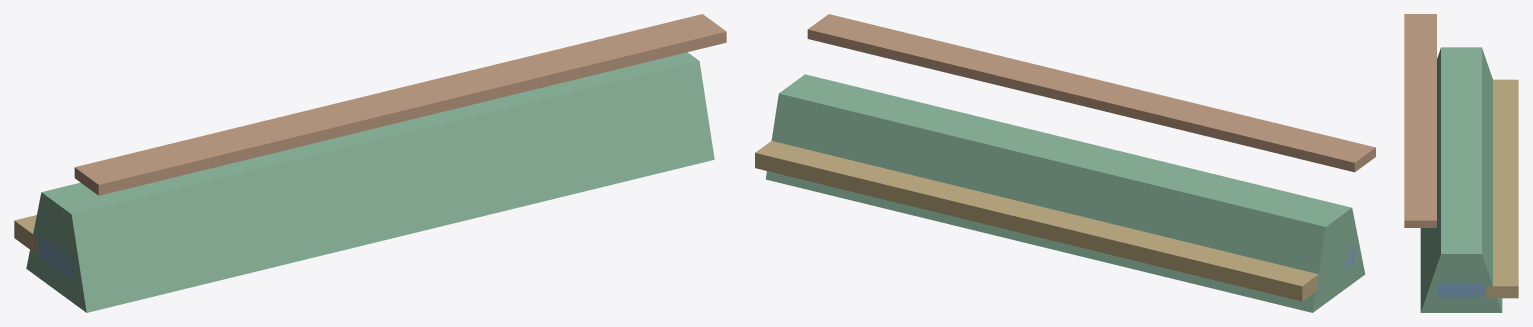
3 views of the same model, side by side, from view 1: azimuth 30°, elevation 25°; view 2: azimuth 150°, elevation 25°; view 3: azimuth 270°, elevation 25° (orthographic). The views are drawn at different scales.
Visible parts, largest first — view 1: 3_護岸ブロック, 4_天端工, 1_基礎工, 2_根固工; view 2: 3_護岸ブロック, 2_根固工, 4_天端工; view 3: 3_護岸ブロック, 4_天端工, 2_根固工, 1_基礎工.
Boxes of the visible parts, <box> form: 3_護岸ブロック: <box>26,52,714,312</box>; 4_天端工: <box>74,14,726,195</box>; 1_基礎工: <box>38,234,74,281</box>; 2_根固工: <box>14,215,38,255</box>; 3_護岸ブロック: <box>765,74,1365,312</box>; 2_根固工: <box>755,141,1320,301</box>; 4_天端工: <box>807,14,1375,172</box>; 3_護岸ブロック: <box>1420,47,1502,312</box>; 4_天端工: <box>1404,14,1436,227</box>; 2_根固工: <box>1486,79,1518,298</box>; 1_基礎工: <box>1437,283,1485,298</box>.
Size of the model in its own units: 30 by 6.25 by 7.
